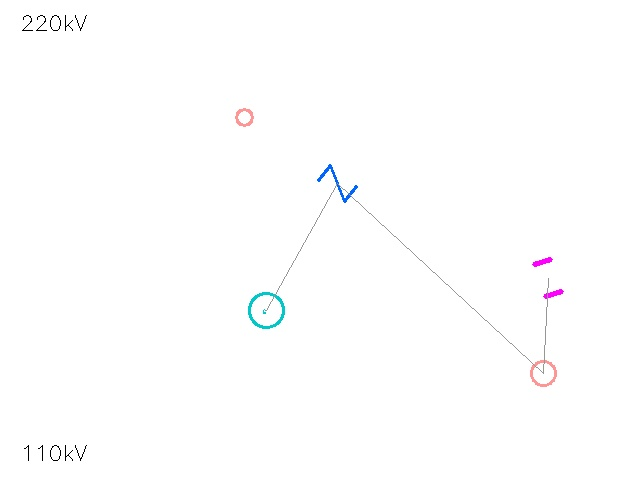capacitor: (520, 250, 576, 306)
circuit_breaker: (318, 164, 356, 202)
current_transformer: (518, 348, 568, 398)
disconnect_switch: (227, 100, 261, 134)
generator: (249, 293, 283, 327)
